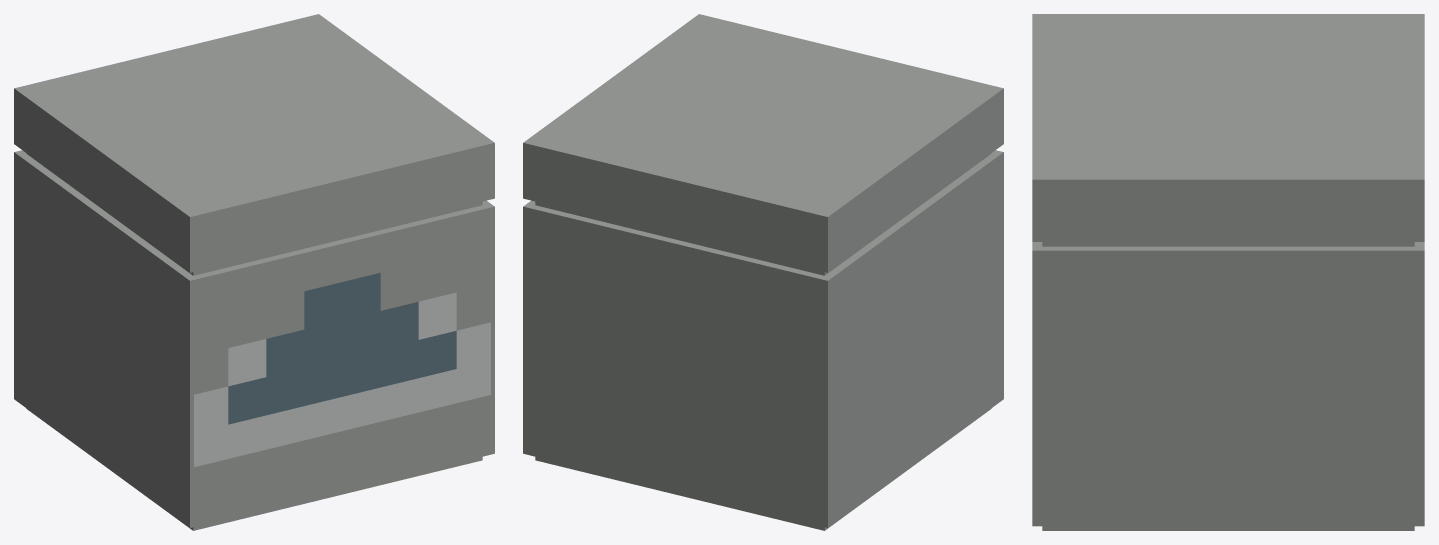
Rendered from oven.dae.
3 renders of one model, left to right at view 1: azimuth 30°, elevation 25°; view 2: azimuth 150°, elevation 25°; view 3: azimuth 270°, elevation 25°, orthographic. The views are drawn at different scales.
Parts seen in each view (by area): view 1: Object, Object.001, Object.002; view 2: Object, Object.001, Object.002; view 3: Object.001, Object, Object.002.
Boxes of the visible parts, x1,y1,x2,y2 form: Object: [14, 150, 494, 472]; Object.001: [14, 14, 494, 275]; Object.002: [14, 343, 494, 530]; Object: [523, 150, 1003, 472]; Object.001: [523, 14, 1003, 275]; Object.002: [523, 343, 1003, 530]; Object.001: [1032, 14, 1424, 246]; Object: [1032, 242, 1424, 463]; Object.002: [1032, 464, 1424, 530].
Bounding box in the file's own units: 0.016 × 0.016 × 0.016.
